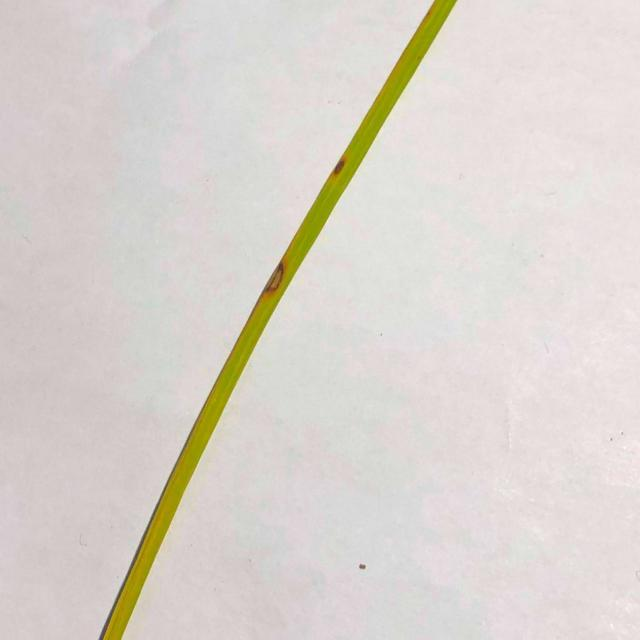Blast: (263, 258, 293, 296), (337, 152, 352, 178)
